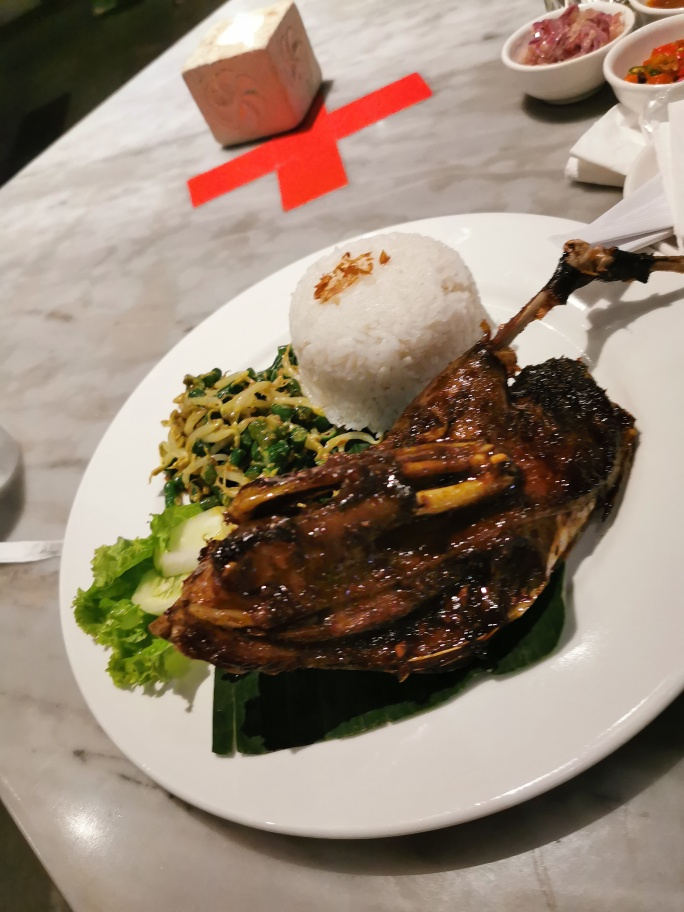bebek bakar: (135, 241, 684, 670)
nasi putih: (261, 218, 503, 439)
